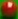red: (0, 0, 18, 19)
